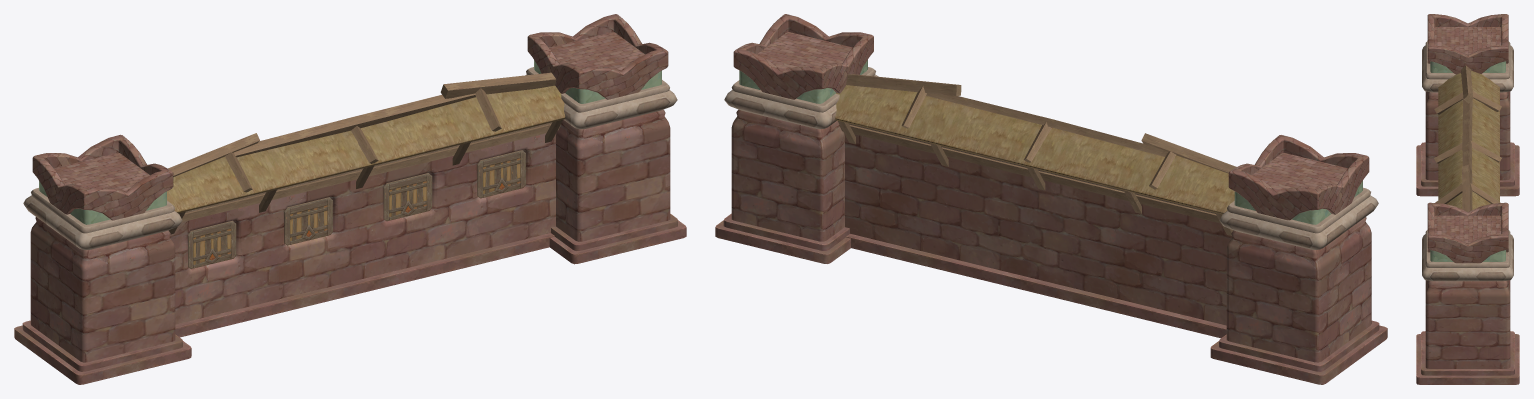
The model's file is Homeworld_Exterior_Xm_Build_Arwall_01_Lod0.fbx.
3 views of the same model, side by side, from view 1: azimuth 30°, elevation 25°; view 2: azimuth 150°, elevation 25°; view 3: azimuth 270°, elevation 25° (orthographic). The views are drawn at different scales.
Parts seen in each view (by area): view 1: Area_Xm_Build_ARC_House_K_06_Lod0, Area_Xm_Build_ARC_House_K_03_Lod0 (1), Area_Xm_Build_ARC_House_K_03_Lod0 (6); view 2: Area_Xm_Build_ARC_House_K_06_Lod0, Area_Xm_Build_ARC_House_K_03_Lod0 (1), Area_Xm_Build_ARC_House_K_03_Lod0 (6); view 3: Area_Xm_Build_ARC_House_K_03_Lod0 (6), Area_Xm_Build_ARC_House_K_03_Lod0 (1), Area_Xm_Build_ARC_House_K_06_Lod0.
Boxes of the visible parts, box(x1,y1,x2,y2) form: Area_Xm_Build_ARC_House_K_06_Lod0: box(167, 72, 565, 337); Area_Xm_Build_ARC_House_K_03_Lod0 (1): box(14, 134, 191, 384); Area_Xm_Build_ARC_House_K_03_Lod0 (6): box(526, 14, 686, 264); Area_Xm_Build_ARC_House_K_06_Lod0: box(835, 74, 1236, 338); Area_Xm_Build_ARC_House_K_03_Lod0 (1): box(1210, 135, 1387, 384); Area_Xm_Build_ARC_House_K_03_Lod0 (6): box(715, 14, 878, 263); Area_Xm_Build_ARC_House_K_03_Lod0 (6): box(1416, 202, 1519, 384); Area_Xm_Build_ARC_House_K_03_Lod0 (1): box(1416, 14, 1519, 196); Area_Xm_Build_ARC_House_K_06_Lod0: box(1434, 65, 1501, 211).
Size of the model in its own units: 13.79 by 3.97 by 2.59.
